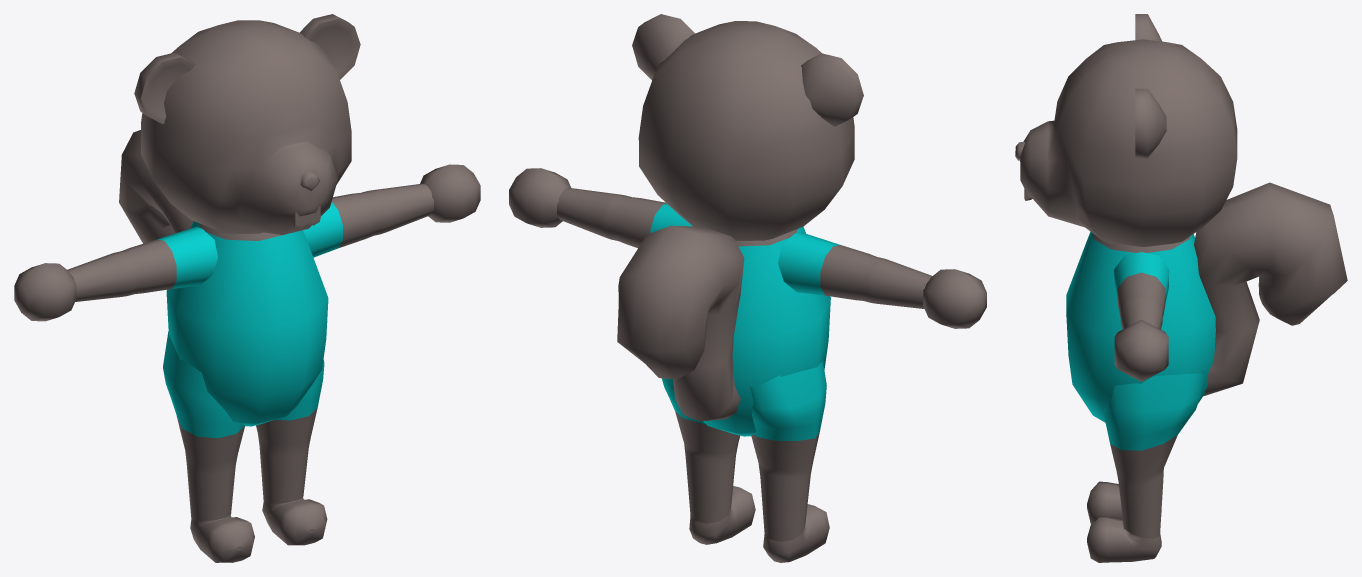
File: squirrel_FBX.fbx
3 renders of one model, left to right at view 1: azimuth 30°, elevation 25°; view 2: azimuth 150°, elevation 25°; view 3: azimuth 270°, elevation 25°, orthographic. The views are drawn at different scales.
Visible parts, largest first — view 1: Squirrel_geo; view 2: Squirrel_geo; view 3: Squirrel_geo.
Part boxes in pixels (x1,y1,x2,y2): Squirrel_geo: (14, 14, 480, 562); Squirrel_geo: (509, 14, 986, 562); Squirrel_geo: (1015, 14, 1347, 562).
Bounding box in the file's own units: 7.05 × 7.39 × 4.55.
